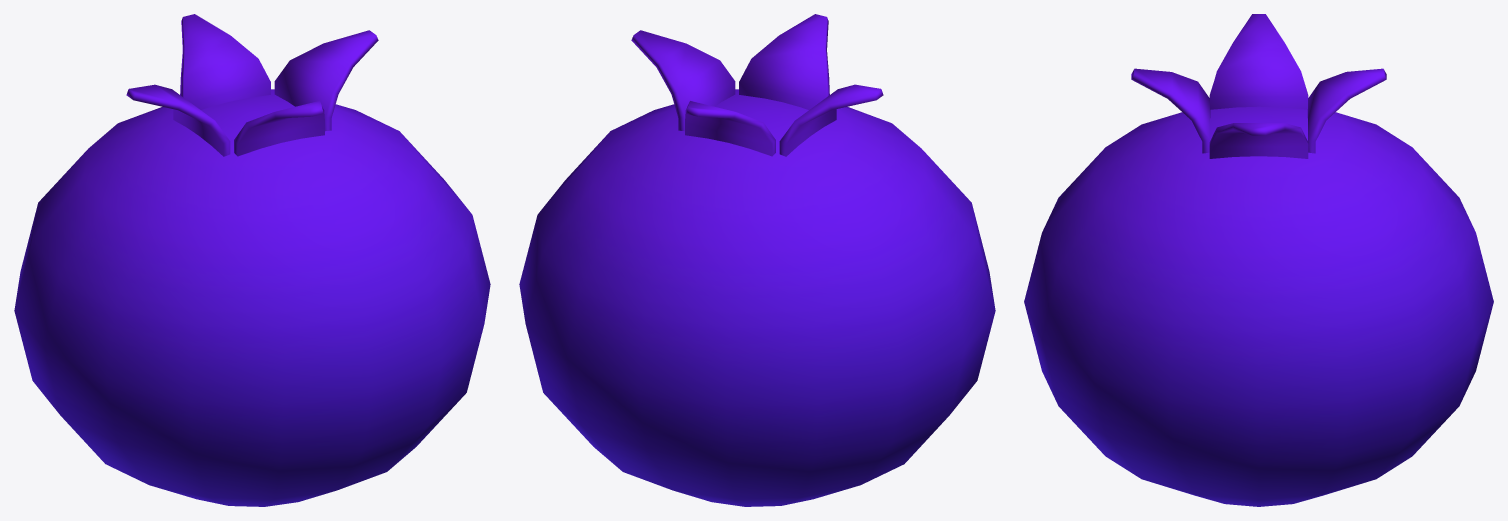
Rendered from Berry.fbx.
3 views of the same model, side by side, from view 1: azimuth 30°, elevation 25°; view 2: azimuth 150°, elevation 25°; view 3: azimuth 270°, elevation 25° (orthographic). The views are drawn at different scales.
Parts seen in each view (by area): view 1: Berry; view 2: Berry; view 3: Berry.
Part boxes in pixels (x1,y1,x2,y2): Berry: [14, 14, 490, 506]; Berry: [519, 14, 995, 506]; Berry: [1024, 14, 1493, 506].
Size of the model in its own units: 1.44 by 1.39 by 1.44.
Materials: 1 (1 with a texture image).
